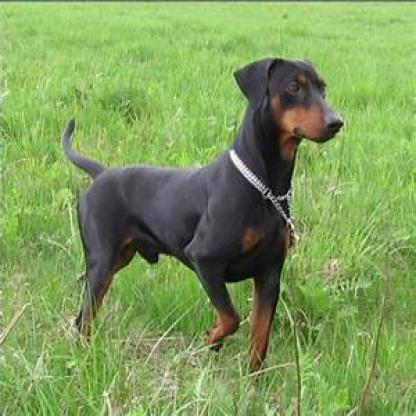dog: (62, 56, 347, 372)
